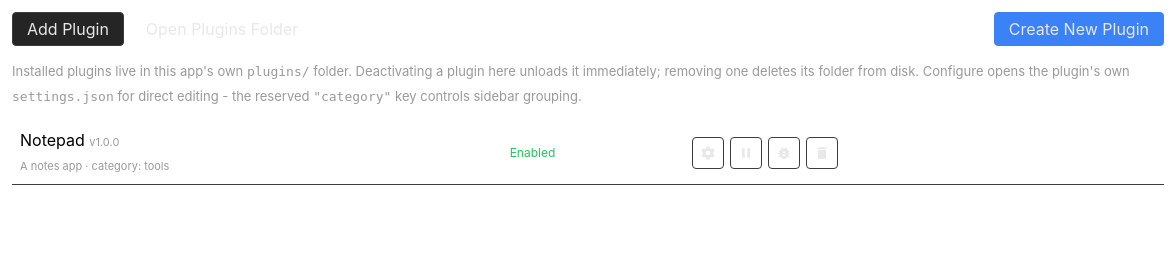
SettingsPlugins › shows a load error when readPluginSettingsFile rejects
The width and height of the screenshot is (1176, 278).
Expected: the text "Enabled" is shown, [502,122,684,184]
Click the button named "Configure": x=708, y=153 [692,137,724,169]
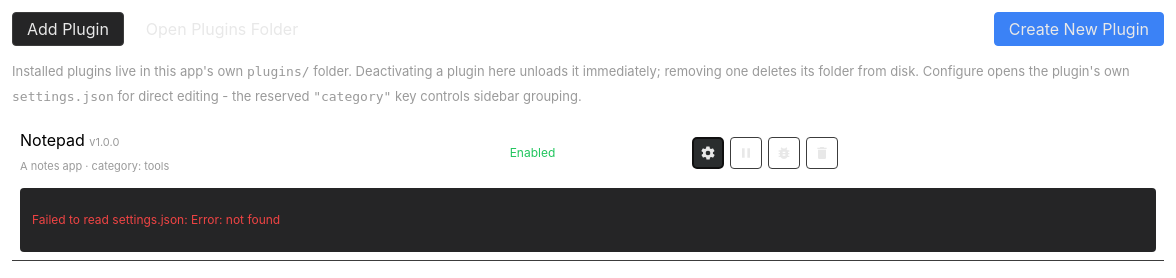
Expected: the text "Failed to read settings.json: Error: not found" is shown, [32,212,280,227]
